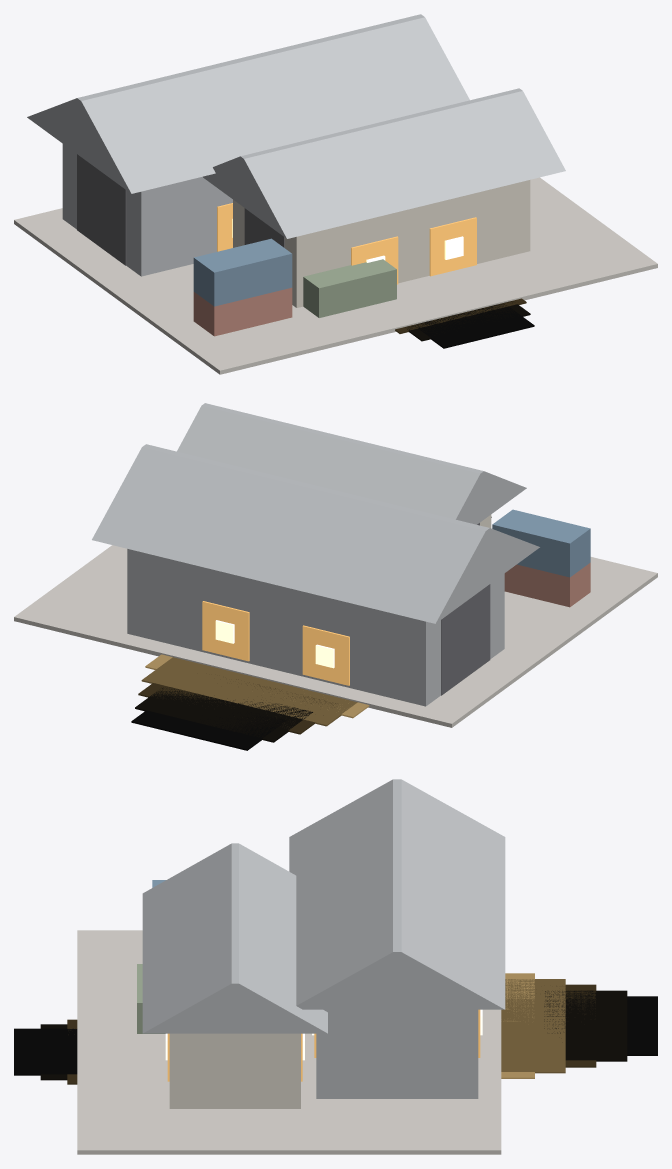
File: plc_terminal.glb
3 renders of one model, top to bottom at view 1: azimuth 30°, elevation 25°; view 2: azimuth 150°, elevation 25°; view 3: azimuth 270°, elevation 25°, orthographic. The views are drawn at different scales.
Visible parts, largest first — view 1: plc_terminal; view 2: plc_terminal; view 3: plc_terminal.
Boxes of the visible parts, x1=… form: plc_terminal: x1=14, y1=14, x2=657, y2=374; plc_terminal: x1=14, y1=403, x2=657, y2=750; plc_terminal: x1=14, y1=779, x2=657, y2=1154.
Bounding box in the file's own units: 2.3 × 0.7905 × 2.84.
